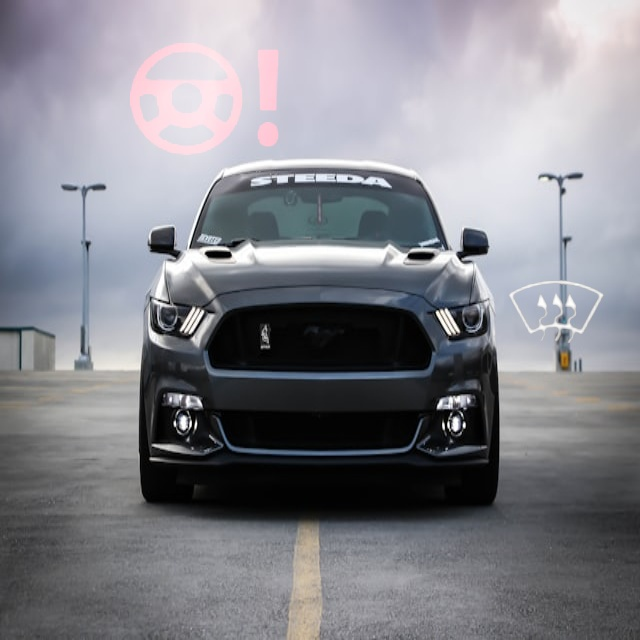symbol: (115, 10, 295, 190), (479, 235, 636, 392)
